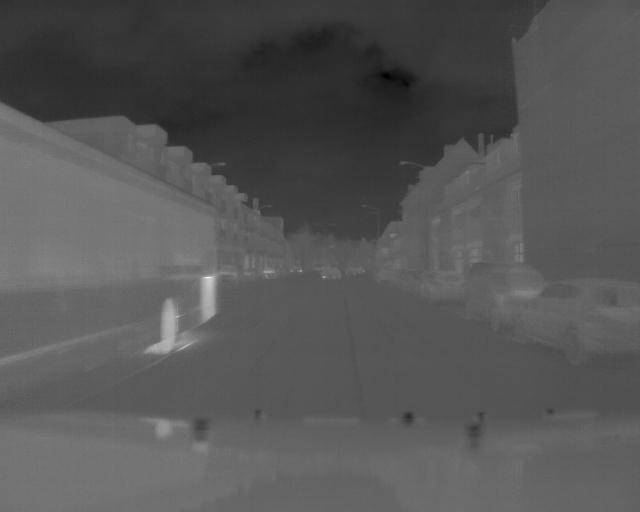car: (1, 98, 221, 401), (510, 278, 640, 365), (461, 263, 545, 330), (420, 270, 466, 303)
